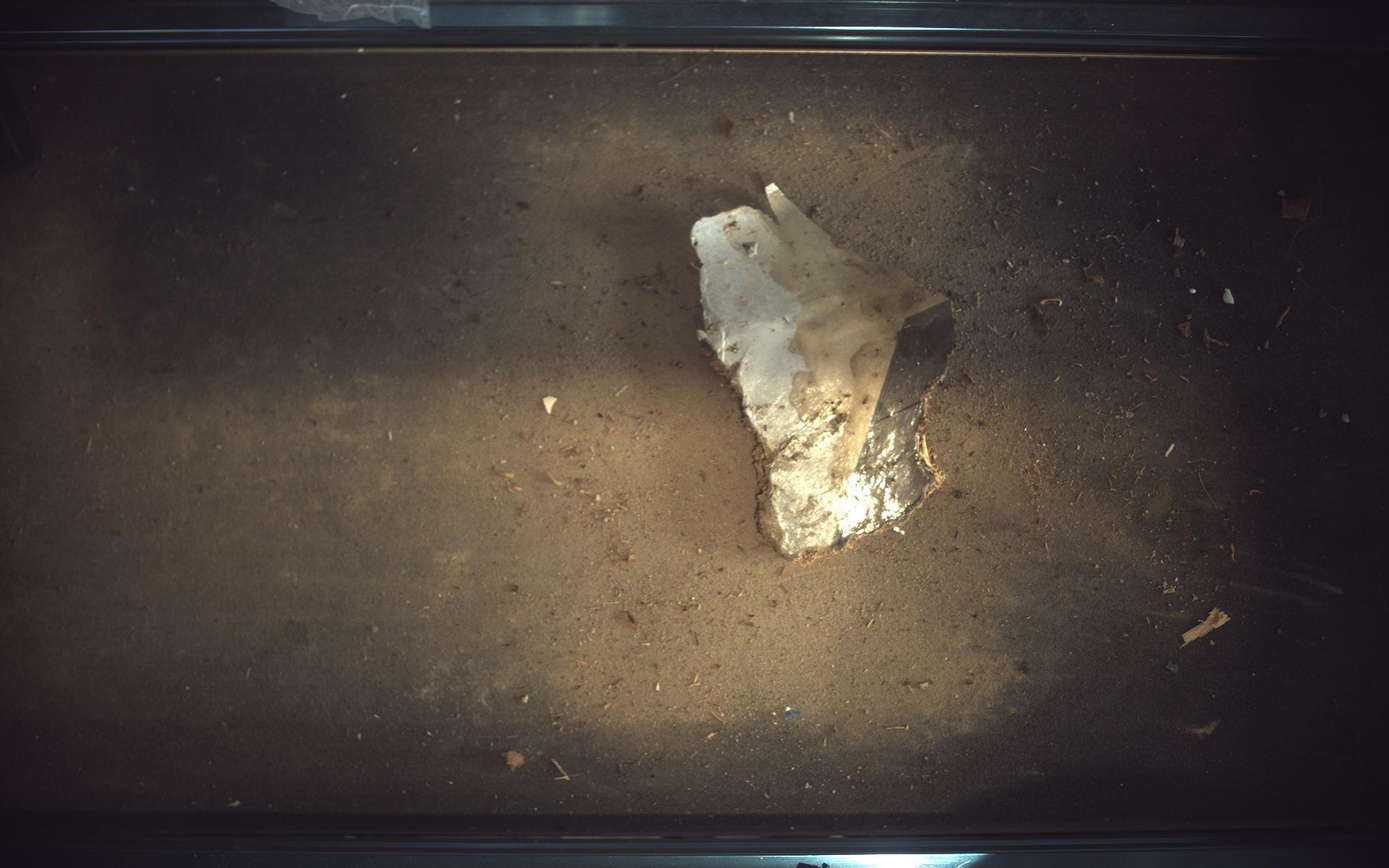wood: (692, 182, 956, 558)
